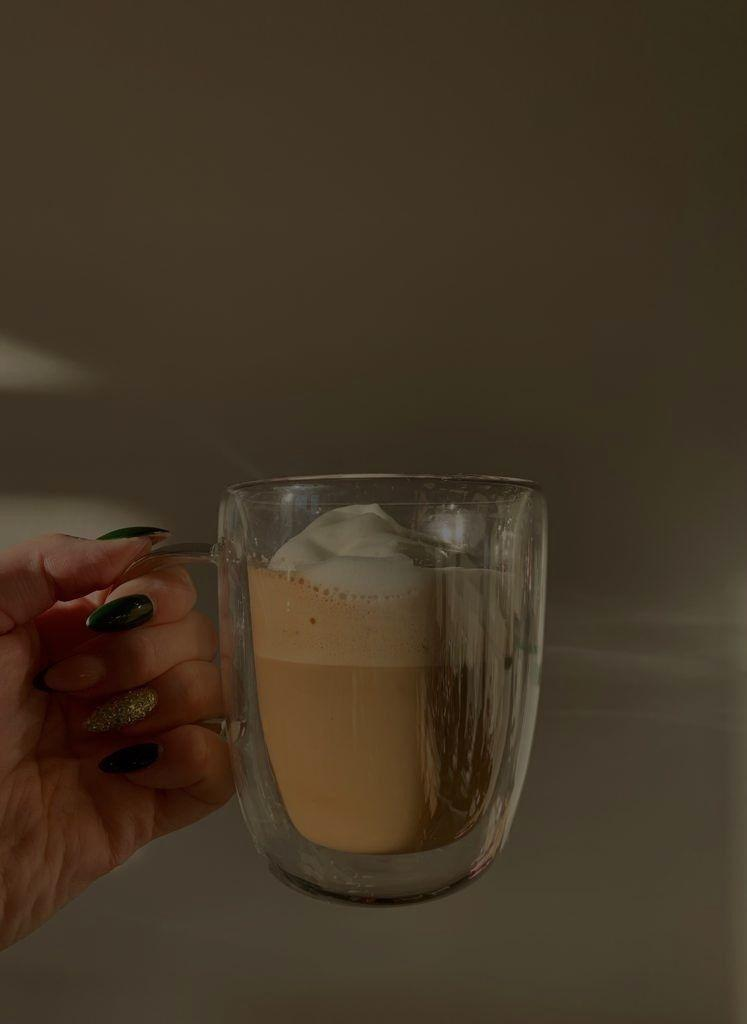glass-mug: (123, 464, 557, 914)
